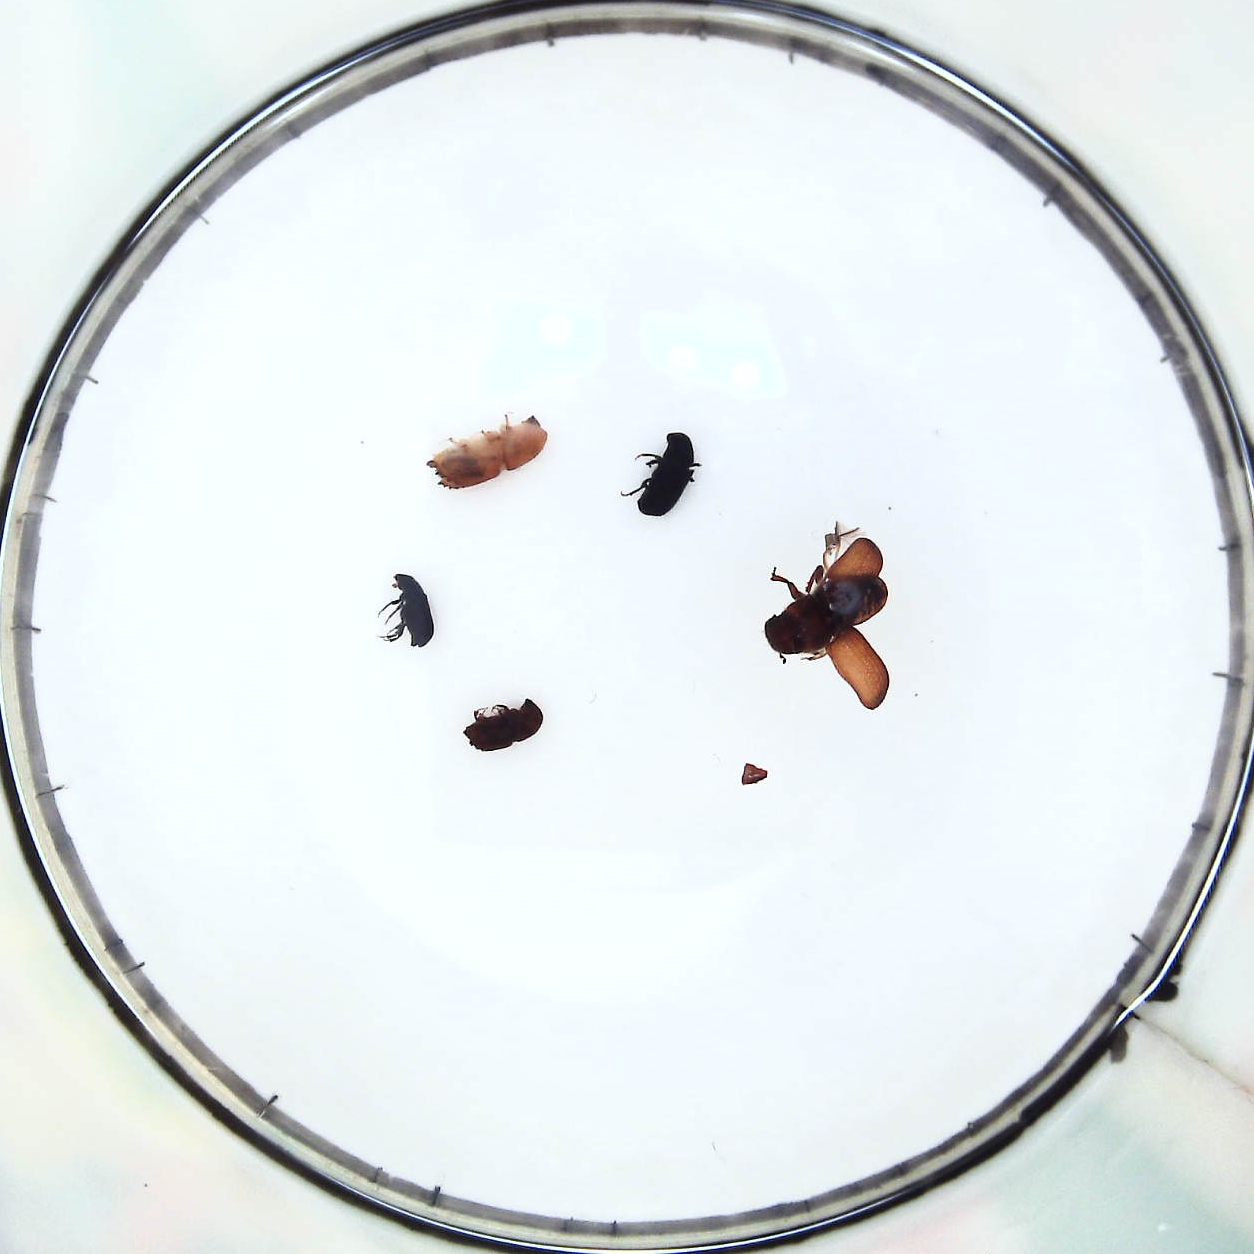Boerner: (428, 416, 545, 488)
Leconte: (759, 528, 895, 715)
Linnaeus: (464, 691, 541, 754)
armandi: (629, 429, 697, 516)
coleoptera: (379, 566, 431, 651)
